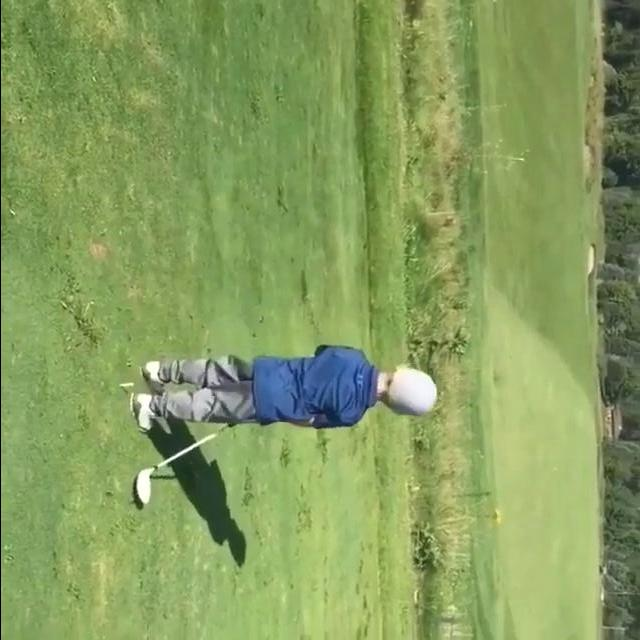ClubHandle: (130, 422, 240, 508)
ClubHead: (135, 472, 151, 507)
